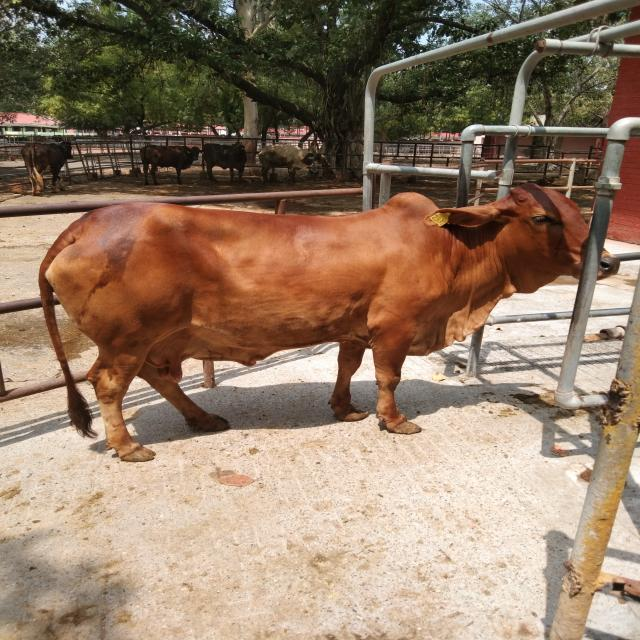1: (381, 191, 440, 206)
Hoof: (120, 446, 155, 462), (199, 414, 230, 432), (387, 420, 421, 434), (333, 408, 368, 421)
